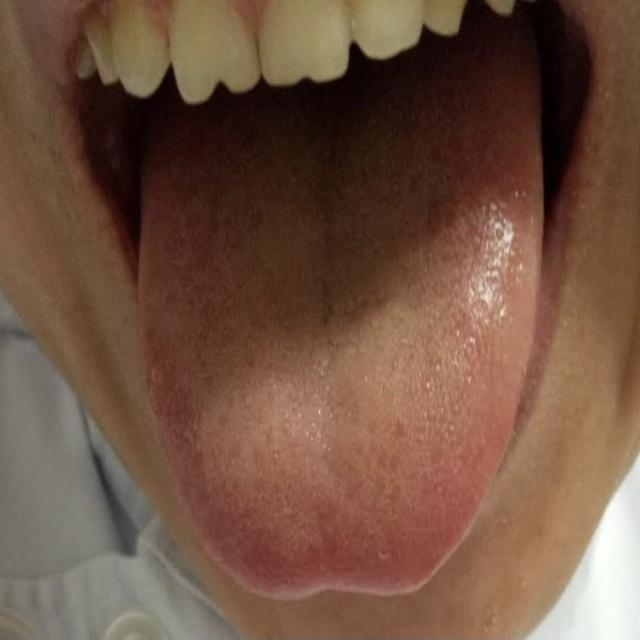huangtaishe: (138, 112, 543, 599)
